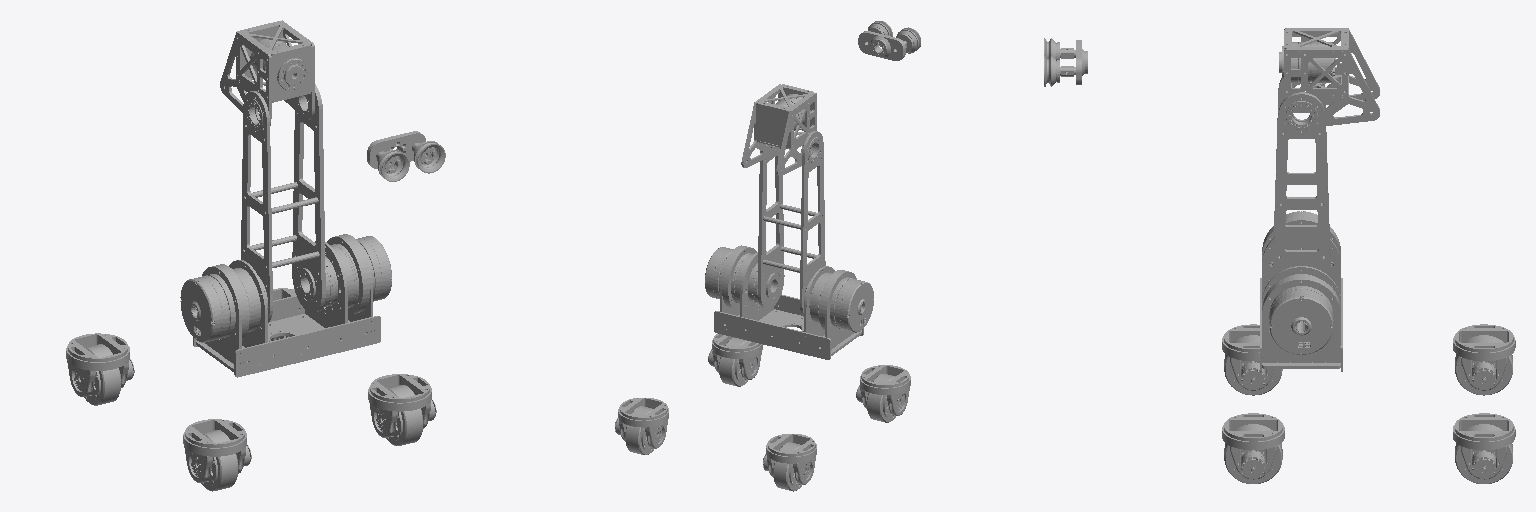
--- Facts derived from the render (not from the file) ---
3 views of the same robot in one strip: view 1: azimuth 30°, elevation 25°; view 2: azimuth 150°, elevation 25°; view 3: azimuth 270°, elevation 25° (orthographic).
Model mmrobot with 15 links and 14 joints (14 continuous), rooted at base_link, posed every joint at zero.
Links seen in each view (by area): view 1: link1_1, link2_1, link3_1, caster_2, caster_4, caster_3, gripper_1, wheel_4, wheel_2, wheel_1; view 2: link1_1, link2_1, link3_1, caster_4, caster_1, caster_3, gripper_1, caster_2, wheel_3, wheel_4, wheel_1, wheel_2; view 3: link1_1, link3_1, link2_1, caster_2, caster_1, caster_3, caster_4, gripper_1, wheel_4, wheel_3, wheel_1, wheel_2.
Link boxes in pixels (x1,y1,x2,y2): link1_1: (180, 234, 391, 377); link2_1: (241, 84, 325, 322); link3_1: (220, 20, 314, 130); caster_2: (368, 374, 436, 440); caster_4: (183, 419, 251, 485); caster_3: (66, 333, 134, 400); gripper_1: (367, 131, 445, 181); wheel_4: (84, 344, 120, 405); wheel_2: (201, 430, 237, 491); wheel_1: (386, 385, 422, 445); link1_1: (705, 245, 873, 359); link2_1: (758, 131, 825, 316); link3_1: (741, 84, 820, 176); caster_4: (856, 365, 910, 418); caster_1: (615, 398, 668, 450); caster_3: (763, 434, 816, 486); gripper_1: (858, 21, 920, 60); caster_2: (708, 333, 762, 382); wheel_3: (625, 406, 654, 454); wheel_4: (773, 442, 801, 491); wheel_1: (719, 338, 747, 386); wheel_2: (867, 374, 895, 422); link1_1: (1260, 211, 1342, 371); link3_1: (1279, 28, 1379, 129); link2_1: (1273, 78, 1330, 276); caster_2: (1222, 413, 1284, 479); caster_1: (1453, 413, 1515, 479); caster_3: (1453, 324, 1515, 390); caster_4: (1222, 324, 1276, 390); gripper_1: (1044, 38, 1087, 86); wheel_4: (1455, 335, 1512, 395); wheel_3: (1455, 424, 1512, 483); wheel_1: (1224, 424, 1282, 483); wheel_2: (1224, 335, 1282, 395).
Size in the robot's own frame: 0.4804 by 0.8084 by 0.7528 metres.
12 mesh visuals loaded from 15 distinct referenced files (12 binary STL); not drawn: 3 (reference not matched to a file when rendering).

URDF robot description (mmrobot):
<?xml version="1.0" ?>
<!-- =================================================================================== -->
<!-- |    This document was autogenerated by xacro from mmrobot.xacro                  | -->
<!-- |    EDITING THIS FILE BY HAND IS NOT RECOMMENDED                                 | -->
<!-- =================================================================================== -->
<robot name="mmrobot">
    <material name="silver">
        <color rgba="0.700 0.700 0.700 1.000" />
    </material>
    <transmission name="rear_left_str_tran">
        <type>transmission_interface/SimpleTransmission</type>
        <joint name="rear_left_str">
            <hardwareInterface>hardware_interface/EffortJointInterface</hardwareInterface>
        </joint>
        <actuator name="rear_left_str_actr">
            <hardwareInterface>hardware_interface/EffortJointInterface</hardwareInterface>
            <mechanicalReduction>1</mechanicalReduction>
        </actuator>
    </transmission>
    <transmission name="front_left_str_tran">
        <type>transmission_interface/SimpleTransmission</type>
        <joint name="front_left_str">
            <hardwareInterface>hardware_interface/EffortJointInterface</hardwareInterface>
        </joint>
        <actuator name="front_left_str_actr">
            <hardwareInterface>hardware_interface/EffortJointInterface</hardwareInterface>
            <mechanicalReduction>1</mechanicalReduction>
        </actuator>
    </transmission>
    <transmission name="rear_right_str_tran">
        <type>transmission_interface/SimpleTransmission</type>
        <joint name="rear_right_str">
            <hardwareInterface>hardware_interface/EffortJointInterface</hardwareInterface>
        </joint>
        <actuator name="rear_right_str_actr">
            <hardwareInterface>hardware_interface/EffortJointInterface</hardwareInterface>
            <mechanicalReduction>1</mechanicalReduction>
        </actuator>
    </transmission>
    <transmission name="front_right_str_tran">
        <type>transmission_interface/SimpleTransmission</type>
        <joint name="front_right_str">
            <hardwareInterface>hardware_interface/EffortJointInterface</hardwareInterface>
        </joint>
        <actuator name="front_right_str_actr">
            <hardwareInterface>hardware_interface/EffortJointInterface</hardwareInterface>
            <mechanicalReduction>1</mechanicalReduction>
        </actuator>
    </transmission>
    <transmission name="front_left_vel_tran">
        <type>transmission_interface/SimpleTransmission</type>
        <joint name="front_left_vel">
            <hardwareInterface>hardware_interface/EffortJointInterface</hardwareInterface>
        </joint>
        <actuator name="front_left_vel_actr">
            <hardwareInterface>hardware_interface/EffortJointInterface</hardwareInterface>
            <mechanicalReduction>1</mechanicalReduction>
        </actuator>
    </transmission>
    <transmission name="front_right_vel_tran">
        <type>transmission_interface/SimpleTransmission</type>
        <joint name="front_right_vel">
            <hardwareInterface>hardware_interface/EffortJointInterface</hardwareInterface>
        </joint>
        <actuator name="front_right_vel_actr">
            <hardwareInterface>hardware_interface/EffortJointInterface</hardwareInterface>
            <mechanicalReduction>1</mechanicalReduction>
        </actuator>
    </transmission>
    <transmission name="rear_left_vel_tran">
        <type>transmission_interface/SimpleTransmission</type>
        <joint name="rear_left_vel">
            <hardwareInterface>hardware_interface/EffortJointInterface</hardwareInterface>
        </joint>
        <actuator name="rear_left_vel_actr">
            <hardwareInterface>hardware_interface/EffortJointInterface</hardwareInterface>
            <mechanicalReduction>1</mechanicalReduction>
        </actuator>
    </transmission>
    <transmission name="rear_right_vel_tran">
        <type>transmission_interface/SimpleTransmission</type>
        <joint name="rear_right_vel">
            <hardwareInterface>hardware_interface/EffortJointInterface</hardwareInterface>
        </joint>
        <actuator name="rear_right_vel_actr">
            <hardwareInterface>hardware_interface/EffortJointInterface</hardwareInterface>
            <mechanicalReduction>1</mechanicalReduction>
        </actuator>
    </transmission>
    <transmission name="joint1_tran">
        <type>transmission_interface/SimpleTransmission</type>
        <joint name="joint1">
            <hardwareInterface>hardware_interface/EffortJointInterface</hardwareInterface>
        </joint>
        <actuator name="joint1_actr">
            <hardwareInterface>hardware_interface/EffortJointInterface</hardwareInterface>
            <mechanicalReduction>1</mechanicalReduction>
        </actuator>
    </transmission>
    <transmission name="joint2_tran">
        <type>transmission_interface/SimpleTransmission</type>
        <joint name="joint2">
            <hardwareInterface>hardware_interface/EffortJointInterface</hardwareInterface>
        </joint>
        <actuator name="joint2_actr">
            <hardwareInterface>hardware_interface/EffortJointInterface</hardwareInterface>
            <mechanicalReduction>1</mechanicalReduction>
        </actuator>
    </transmission>
    <transmission name="joint3_tran">
        <type>transmission_interface/SimpleTransmission</type>
        <joint name="joint3">
            <hardwareInterface>hardware_interface/EffortJointInterface</hardwareInterface>
        </joint>
        <actuator name="joint3_actr">
            <hardwareInterface>hardware_interface/EffortJointInterface</hardwareInterface>
            <mechanicalReduction>1</mechanicalReduction>
        </actuator>
    </transmission>
    <transmission name="joint4_tran">
        <type>transmission_interface/SimpleTransmission</type>
        <joint name="joint4">
            <hardwareInterface>hardware_interface/EffortJointInterface</hardwareInterface>
        </joint>
        <actuator name="joint4_actr">
            <hardwareInterface>hardware_interface/EffortJointInterface</hardwareInterface>
            <mechanicalReduction>1</mechanicalReduction>
        </actuator>
    </transmission>
    <transmission name="joint5_tran">
        <type>transmission_interface/SimpleTransmission</type>
        <joint name="joint5">
            <hardwareInterface>hardware_interface/EffortJointInterface</hardwareInterface>
        </joint>
        <actuator name="joint5_actr">
            <hardwareInterface>hardware_interface/EffortJointInterface</hardwareInterface>
            <mechanicalReduction>1</mechanicalReduction>
        </actuator>
    </transmission>
    <transmission name="joint6_tran">
        <type>transmission_interface/SimpleTransmission</type>
        <joint name="joint6">
            <hardwareInterface>hardware_interface/EffortJointInterface</hardwareInterface>
        </joint>
        <actuator name="joint6_actr">
            <hardwareInterface>hardware_interface/EffortJointInterface</hardwareInterface>
            <mechanicalReduction>1</mechanicalReduction>
        </actuator>
    </transmission>
    <gazebo>
        <plugin filename="libgazebo_ros_control.so" name="control">
            <robotNamespace>/mmrobot</robotNamespace>
            <robotSimType>gazebo_ros_control/DefaultRobotHWSim</robotSimType>
        </plugin>
        <plugin name="gazebo_ros_control">
            <robotNamespace>/</robotNamespace>
        </plugin>
    </gazebo>
    <gazebo reference="base_link">
        <material>Gazebo/Silver</material>
        <mu1>0.2</mu1>
        <mu2>0.2</mu2>
        <selfCollide>true</selfCollide>
        <gravity>true</gravity>
    </gazebo>
    <gazebo reference="caster_1">
        <material>Gazebo/Blue</material>
        <mu1>0.2</mu1>
        <mu2>0.2</mu2>
        <selfCollide>true</selfCollide>
    </gazebo>
    <gazebo reference="caster_2">
        <material>Gazebo/Blue</material>
        <mu1>0.2</mu1>
        <mu2>0.2</mu2>
        <selfCollide>true</selfCollide>
    </gazebo>
    <gazebo reference="caster_3">
        <material>Gazebo/Blue</material>
        <mu1>0.2</mu1>
        <mu2>0.2</mu2>
        <selfCollide>true</selfCollide>
    </gazebo>
    <gazebo reference="caster_4">
        <material>Gazebo/Blue</material>
        <mu1>0.2</mu1>
        <mu2>0.2</mu2>
        <selfCollide>true</selfCollide>
    </gazebo>
    <gazebo reference="wheel_1">
        <material>Gazebo/Red</material>
        <mu1>0.2</mu1>
        <mu2>0.2</mu2>
        <selfCollide>true</selfCollide>
    </gazebo>
    <gazebo reference="wheel_2">
        <material>Gazebo/Red</material>
        <mu1>0.2</mu1>
        <mu2>0.2</mu2>
        <selfCollide>true</selfCollide>
    </gazebo>
    <gazebo reference="wheel_3">
        <material>Gazebo/Red</material>
        <mu1>0.2</mu1>
        <mu2>0.2</mu2>
        <selfCollide>true</selfCollide>
    </gazebo>
    <gazebo reference="wheel_4">
        <material>Gazebo/Red</material>
        <mu1>0.2</mu1>
        <mu2>0.2</mu2>
        <selfCollide>true</selfCollide>
    </gazebo>
    <gazebo reference="link1_1">
        <material>Gazebo/Orange</material>
        <mu1>0.2</mu1>
        <mu2>0.2</mu2>
        <selfCollide>true</selfCollide>
    </gazebo>
    <gazebo reference="link2_1">
        <material>Gazebo/Black</material>
        <mu1>0.2</mu1>
        <mu2>0.2</mu2>
        <selfCollide>true</selfCollide>
    </gazebo>
    <gazebo reference="link3_1">
        <material>Gazebo/Yellow</material>
        <mu1>0.2</mu1>
        <mu2>0.2</mu2>
        <selfCollide>true</selfCollide>
    </gazebo>
    <gazebo reference="link4_1">
        <material>Gazebo/Blue</material>
        <mu1>0.2</mu1>
        <mu2>0.2</mu2>
        <selfCollide>true</selfCollide>
    </gazebo>
    <gazebo reference="link5_1">
        <material>Gazebo/Green</material>
        <mu1>0.2</mu1>
        <mu2>0.2</mu2>
        <selfCollide>true</selfCollide>
    </gazebo>
    <gazebo reference="gripper_1">
        <material>Gazebo/Red</material>
        <mu1>0.2</mu1>
        <mu2>0.2</mu2>
        <selfCollide>true</selfCollide>
    </gazebo>
    <link name="base_link">
        <inertial>
            <origin rpy="0 0 0" xyz="-0.008302916104735372 0.0019959211199075295 0.10474586187724126" />
            <mass value="4.270686017056189" />
            <inertia ixx="0.13928" ixy="0.0" ixz="-0.0" iyy="0.118374" iyz="0.00154" izz="0.240349" />
        </inertial>
        <visual>
            <origin rpy="0 0 0" xyz="0 0 0" />
            <geometry>
                <mesh filename="package://mmrobot_description/meshes/base_link.stl" scale="0.001 0.001 0.001" />
            </geometry>
            <material name="silver" />
        </visual>
        <collision>
            <origin rpy="0 0 0" xyz="0 0 0" />
            <geometry>
                <mesh filename="package://mmrobot_description/meshes/base_link.stl" scale="0.001 0.001 0.001" />
            </geometry>
        </collision>
    </link>
    <link name="caster_1">
        <inertial>
            <origin rpy="0 0 0" xyz="0.0021887482224724475 -8.803289413272797e-06 -0.03272852540499743" />
            <mass value="0.28102861139928476" />
            <inertia ixx="0.000303" ixy="0.0" ixz="1.3e-05" iyy="0.000386" iyz="-0.0" izz="0.000367" />
        </inertial>
        <visual>
            <origin rpy="0 0 0" xyz="-0.172197 -0.204601 -0.097687" />
            <geometry>
                <mesh filename="package://mmrobot_description/meshes/caster_1.stl" scale="0.001 0.001 0.001" />
            </geometry>
            <material name="silver" />
        </visual>
        <collision>
            <origin rpy="0 0 0" xyz="-0.172197 -0.204601 -0.097687" />
            <geometry>
                <mesh filename="package://mmrobot_description/meshes/caster_1.stl" scale="0.001 0.001 0.001" />
            </geometry>
        </collision>
    </link>
    <link name="caster_2">
        <inertial>
            <origin rpy="0 0 0" xyz="0.0021887482224724752 -8.803289413106263e-06 -0.032728525404997724" />
            <mass value="0.28102861139928476" />
            <inertia ixx="0.000303" ixy="0.0" ixz="1.3e-05" iyy="0.000386" iyz="-0.0" izz="0.000367" />
        </inertial>
        <visual>
            <origin rpy="0 0 0" xyz="-0.172197 0.191399 -0.097687" />
            <geometry>
                <mesh filename="package://mmrobot_description/meshes/caster_2.stl" scale="0.001 0.001 0.001" />
            </geometry>
            <material name="silver" />
        </visual>
        <collision>
            <origin rpy="0 0 0" xyz="-0.172197 0.191399 -0.097687" />
            <geometry>
                <mesh filename="package://mmrobot_description/meshes/caster_2.stl" scale="0.001 0.001 0.001" />
            </geometry>
        </collision>
    </link>
    <link name="caster_3">
        <inertial>
            <origin rpy="0 0 0" xyz="0.0021887482224735577 -8.803289413272797e-06 -0.032728525404997474" />
            <mass value="0.28102861139928476" />
            <inertia ixx="0.000303" ixy="0.0" ixz="1.3e-05" iyy="0.000386" iyz="-0.0" izz="0.000367" />
        </inertial>
        <visual>
            <origin rpy="0 0 0" xyz="0.188803 -0.204601 -0.097687" />
            <geometry>
                <mesh filename="package://mmrobot_description/meshes/caster_3.stl" scale="0.001 0.001 0.001" />
            </geometry>
            <material name="silver" />
        </visual>
        <collision>
            <origin rpy="0 0 0" xyz="0.188803 -0.204601 -0.097687" />
            <geometry>
                <mesh filename="package://mmrobot_description/meshes/caster_3.stl" scale="0.001 0.001 0.001" />
            </geometry>
        </collision>
    </link>
    <link name="caster_4">
        <inertial>
            <origin rpy="0 0 0" xyz="0.0021887482224734744 -8.803289413161774e-06 -0.0327285254049975" />
            <mass value="0.28102861139928476" />
            <inertia ixx="0.000303" ixy="0.0" ixz="1.3e-05" iyy="0.000386" iyz="-0.0" izz="0.000367" />
        </inertial>
        <visual>
            <origin rpy="0 0 0" xyz="0.188803 0.191399 -0.097687" />
            <geometry>
                <mesh filename="package://mmrobot_description/meshes/caster_4.stl" scale="0.001 0.001 0.001" />
            </geometry>
            <material name="silver" />
        </visual>
        <collision>
            <origin rpy="0 0 0" xyz="0.188803 0.191399 -0.097687" />
            <geometry>
                <mesh filename="package://mmrobot_description/meshes/caster_4.stl" scale="0.001 0.001 0.001" />
            </geometry>
        </collision>
    </link>
    <link name="wheel_1">
        <inertial>
            <origin rpy="0 0 0" xyz="0.017500080071390617 -9.961900612753816e-08 -4.7046075932893894e-07" />
            <mass value="0.1516370852065331" />
            <inertia ixx="0.000272" ixy="0.0" ixz="0.0" iyy="0.000151" iyz="-0.0" izz="0.000151" />
        </inertial>
        <visual>
            <origin rpy="0 0 0" xyz="-0.154697 0.191399 -0.050187" />
            <geometry>
                <mesh filename="package://mmrobot_description/meshes/wheel_1.stl" scale="0.001 0.001 0.001" />
            </geometry>
            <material name="silver" />
        </visual>
        <collision>
            <origin rpy="0 0 0" xyz="-0.154697 0.191399 -0.050187" />
            <geometry>
                <mesh filename="package://mmrobot_description/meshes/wheel_1.stl" scale="0.001 0.001 0.001" />
            </geometry>
        </collision>
    </link>
    <link name="wheel_2">
        <inertial>
            <origin rpy="0 0 0" xyz="-0.01749991992860825 -9.961900637733834e-08 -4.704607590166887e-07" />
            <mass value="0.1516370852065331" />
            <inertia ixx="0.000272" ixy="0.0" ixz="-0.0" iyy="0.000151" iyz="-0.0" izz="0.000151" />
        </inertial>
        <visual>
            <origin rpy="0 0 0" xyz="0.171303 0.191399 -0.050187" />
            <geometry>
                <mesh filename="package://mmrobot_description/meshes/wheel_2.stl" scale="0.001 0.001 0.001" />
            </geometry>
            <material name="silver" />
        </visual>
        <collision>
            <origin rpy="0 0 0" xyz="0.171303 0.191399 -0.050187" />
            <geometry>
                <mesh filename="package://mmrobot_description/meshes/wheel_2.stl" scale="0.001 0.001 0.001" />
            </geometry>
        </collision>
    </link>
    <link name="wheel_3">
        <inertial>
            <origin rpy="0 0 0" xyz="-0.017499919928609386 -9.961900623856046e-08 -4.704607590028109e-07" />
            <mass value="0.1516370852065331" />
            <inertia ixx="0.000272" ixy="0.0" ixz="-0.0" iyy="0.000151" iyz="0.0" izz="0.000151" />
        </inertial>
        <visual>
            <origin rpy="0 0 0" xyz="-0.189697 -0.204601 -0.050187" />
            <geometry>
                <mesh filename="package://mmrobot_description/meshes/wheel_3.stl" scale="0.001 0.001 0.001" />
            </geometry>
            <material name="silver" />
        </visual>
        <collision>
            <origin rpy="0 0 0" xyz="-0.189697 -0.204601 -0.050187" />
            <geometry>
                <mesh filename="package://mmrobot_description/meshes/wheel_3.stl" scale="0.001 0.001 0.001" />
            </geometry>
        </collision>
    </link>
    <link name="wheel_4">
        <inertial>
            <origin rpy="0 0 0" xyz="-0.017499919928608082 -9.961900601651585e-08 -4.7046075894729977e-07" />
            <mass value="0.1516370852065331" />
            <inertia ixx="0.000272" ixy="-0.0" ixz="-0.0" iyy="0.000151" iyz="0.0" izz="0.000151" />
        </inertial>
        <visual>
            <origin rpy="0 0 0" xyz="0.171303 -0.204601 -0.050187" />
            <geometry>
                <mesh filename="package://mmrobot_description/meshes/wheel_4.stl" scale="0.001 0.001 0.001" />
            </geometry>
            <material name="silver" />
        </visual>
        <collision>
            <origin rpy="0 0 0" xyz="0.171303 -0.204601 -0.050187" />
            <geometry>
                <mesh filename="package://mmrobot_description/meshes/wheel_4.stl" scale="0.001 0.001 0.001" />
            </geometry>
        </collision>
    </link>
    <link name="link1_1">
        <inertial>
            <origin rpy="0 0 0" xyz="0.007423288821467861 0.00 0.2658398914844642" />
            <mass value="2.71512828709575" />
            <inertia ixx="0.007615" ixy="2.6e-05" ixz="-1e-06" iyy="0.042345" iyz="0.0" izz="0.040801" />
        </inertial>
        <visual>
            <origin rpy="0 0 0" xyz="0.008303 0.108436 -0.013973" />
            <geometry>
                <mesh filename="package://mmrobot_description/meshes/link1_1.stl" scale="0.001 0.001 0.001" />
            </geometry>
            <material name="silver" />
        </visual>
        <collision>
            <origin rpy="0 0 0" xyz="0.008303 0.108436 -0.013973" />
            <geometry>
                <mesh filename="package://mmrobot_description/meshes/link1_1.stl" scale="0.001 0.001 0.001" />
            </geometry>
        </collision>
    </link>
    <link name="link2_1">
        <inertial>
            <origin rpy="0 0 0" xyz="0.060201910056791486 -9.961899327670665e-08 0.14618144723867438" />
            <mass value="0.3158936664806258" />
            <inertia ixx="0.004649" ixy="0.0" ixz="-2.9e-05" iyy="0.005101" iyz="-0.0" izz="0.001085" />
        </inertial>
        <visual>
            <origin rpy="0 0 0" xyz="0.062803 0.108899 -0.293037" />
            <geometry>
                <mesh filename="package://mmrobot_description/meshes/link2_1.stl" scale="0.001 0.001 0.001" />
            </geometry>
            <material name="silver" />
        </visual>
        <collision>
            <origin rpy="0 0 0" xyz="0.062803 0.108899 -0.293037" />
            <geometry>
                <mesh filename="package://mmrobot_description/meshes/link2_1.stl" scale="0.001 0.001 0.001" />
            </geometry>
        </collision>
    </link>
    <link name="link3_1">
        <inertial>
            <origin rpy="0 0 0" xyz="0.049950295693916826 0.022775547959725723 0.06441116766073085" />
            <mass value="0.6000339786282222" />
            <inertia ixx="0.001546" ixy="1e-06" ixz="0.0" iyy="0.001176" iyz="6.8e-05" izz="0.001343" />
        </inertial>
        <visual>
            <origin rpy="0 0 0" xyz="0.058303 0.108899 -0.633037" />
            <geometry>
                <mesh filename="package://mmrobot_description/meshes/link3_1.stl" scale="0.001 0.001 0.001" />
            </geometry>
            <material name="silver" />
        </visual>
        <collision>
            <origin rpy="0 0 0" xyz="0.058303 0.108899 -0.633037" />
            <geometry>
                <mesh filename="package://mmrobot_description/meshes/link3_1.stl" scale="0.001 0.001 0.001" />
            </geometry>
        </collision>
    </link>
    <link name="link4_1">
        <inertial>
            <origin rpy="0 0 0" xyz="9.66979278108071e-08 -0.1315678141313511 -4.7064206110114526e-07" />
            <mass value="0.30663454434170156" />
            <inertia ixx="0.005025" ixy="0.0" ixz="-1e-06" iyy="0.000762" iyz="-0.0" izz="0.005301" />
        </inertial>
        <visual>
            <origin rpy="0 0 0" xyz="0.008303 0.142899 -0.708037" />
            <geometry>
                <mesh filename="package://mmrobot_description/meshes/link4_1.stl" scale="0.001 0.001 0.001" />
            </geometry>
            <material name="silver" />
        </visual>
        <collision>
            <origin rpy="0 0 0" xyz="0.008303 0.142899 -0.708037" />
            <geometry>
                <mesh filename="package://mmrobot_description/meshes/link4_1.stl" scale="0.001 0.001 0.001" />
            </geometry>
        </collision>
    </link>
    <link name="link5_1">
        <inertial>
            <origin rpy="0 0 0" xyz="-0.03754551862399426 0.004760604536082291 0.0019665978572358522" />
            <mass value="0.1685818020240436" />
            <inertia ixx="0.000136" ixy="-0.0" ixz="-0.0" iyy="0.000157" iyz="-1.1e-05" izz="0.000137" />
        </inertial>
        <visual>
            <origin rpy="0 0 0" xyz="-0.029697 0.442899 -0.708037" />
            <geometry>
                <mesh filename="package://mmrobot_description/meshes/link5_1.stl" scale="0.001 0.001 0.001" />
            </geometry>
            <material name="silver" />
        </visual>
        <collision>
            <origin rpy="0 0 0" xyz="-0.029697 0.442899 -0.708037" />
            <geometry>
                <mesh filename="package://mmrobot_description/meshes/link5_1.stl" scale="0.001 0.001 0.001" />
            </geometry>
        </collision>
    </link>
    <link name="gripper_1">
        <inertial>
            <origin rpy="0 0 0" xyz="-1.3848205814502058e-05 -0.03231009447183375 -1.4398737937293404e-05" />
            <mass value="0.11060260658922733" />
            <inertia ixx="7.1e-05" ixy="-0.0" ixz="-0.0" iyy="0.000137" iyz="-0.0" izz="0.000171" />
        </inertial>
        <visual>
            <origin rpy="0 0 0" xyz="0.007803 0.476399 -0.708037" />
            <geometry>
                <mesh filename="package://mmrobot_description/meshes/gripper_1.stl" scale="0.001 0.001 0.001" />
            </geometry>
            <material name="silver" />
        </visual>
        <collision>
            <origin rpy="0 0 0" xyz="0.007803 0.476399 -0.708037" />
            <geometry>
                <mesh filename="package://mmrobot_description/meshes/gripper_1.stl" scale="0.001 0.001 0.001" />
            </geometry>
        </collision>
    </link>
    <joint name="rear_left_str" type="continuous">
        <origin rpy="0 0 0" xyz="0.172197 0.204601 0.097687" />
        <parent link="base_link" />
        <child link="caster_1" />
        <axis xyz="0.0 0.0 -1.0" />
    </joint>
    <joint name="front_left_str" type="continuous">
        <origin rpy="0 0 0" xyz="0.172197 -0.191399 0.097687" />
        <parent link="base_link" />
        <child link="caster_2" />
        <axis xyz="-0.0 -0.0 1.0" />
    </joint>
    <joint name="rear_right_str" type="continuous">
        <origin rpy="0 0 0" xyz="-0.188803 0.204601 0.097687" />
        <parent link="base_link" />
        <child link="caster_3" />
        <axis xyz="0.0 -0.0 1.0" />
    </joint>
    <joint name="front_right_str" type="continuous">
        <origin rpy="0 0 0" xyz="-0.188803 -0.191399 0.097687" />
        <parent link="base_link" />
        <child link="caster_4" />
        <axis xyz="-0.0 0.0 -1.0" />
    </joint>
    <joint name="front_left_vel" type="continuous">
        <origin rpy="0 0 0" xyz="-0.0175 0.0 -0.0475" />
        <parent link="caster_2" />
        <child link="wheel_1" />
        <axis xyz="-1.0 -0.0 -0.0" />
    </joint>
    <joint name="front_right_vel" type="continuous">
        <origin rpy="0 0 0" xyz="0.0175 0.0 -0.0475" />
        <parent link="caster_4" />
        <child link="wheel_2" />
        <axis xyz="1.0 0.0 0.0" />
    </joint>
    <joint name="rear_left_vel" type="continuous">
        <origin rpy="0 0 0" xyz="0.0175 0.0 -0.0475" />
        <parent link="caster_1" />
        <child link="wheel_3" />
        <axis xyz="1.0 0.0 0.0" />
    </joint>
    <joint name="rear_right_vel" type="continuous">
        <origin rpy="0 0 0" xyz="0.0175 0.0 -0.0475" />
        <parent link="caster_3" />
        <child link="wheel_4" />
        <axis xyz="1.0 0.0 0.0" />
    </joint>
    <joint name="joint1" type="continuous">
        <origin rpy="0 0 0" xyz="-0.008303 -0.108436 0.013973" />
        <parent link="base_link" />
        <child link="link1_1" />
        <axis xyz="0.0 0.0 -1.0" />
    </joint>
    <joint name="joint2" type="continuous">
        <origin rpy="0 0 0" xyz="-0.0545 0.0 0.279064" />
        <parent link="link1_1" />
        <child link="link2_1" />
        <axis xyz="1.0 0.0 -0.0" />
    </joint>
    <joint name="joint3" type="continuous">
        <origin rpy="0 0 0" xyz="0.0045 0.0 0.34" />
        <parent link="link2_1" />
        <child link="link3_1" />
        <axis xyz="1.0 0.0 -0.0" />
    </joint>
    <joint name="joint4" type="continuous">
        <origin rpy="0 0 0" xyz="0.05 -0.034 0.075" />
        <parent link="link3_1" />
        <child link="link4_1" />
        <axis xyz="0.0 -1.0 -0.0" />
    </joint>
    <joint name="joint5" type="continuous">
        <origin rpy="0 0 0" xyz="0.038 -0.3 0.0" />
        <parent link="link4_1" />
        <child link="link5_1" />
        <axis xyz="1.0 0.0 -0.0" />
    </joint>
    <joint name="joint6" type="continuous">
        <origin rpy="0 0 0" xyz="-0.0375 -0.0335 0.0" />
        <parent link="link5_1" />
        <child link="gripper_1" />
        <axis xyz="-0.0 1.0 0.0" />
    </joint>
</robot>
